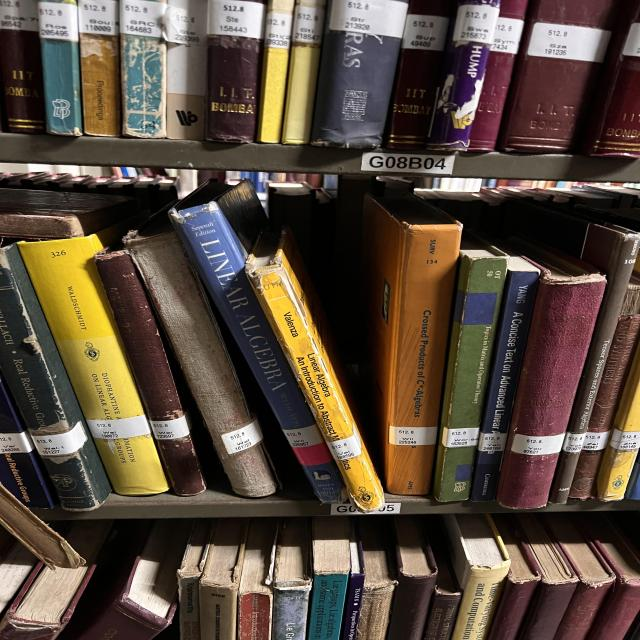Book: (175, 210, 347, 502), (123, 230, 277, 498), (18, 225, 168, 495), (245, 229, 385, 514), (0, 244, 112, 511), (363, 195, 462, 495), (95, 249, 205, 496), (497, 265, 605, 509), (548, 224, 640, 504), (433, 242, 508, 501), (498, 0, 615, 152), (470, 256, 540, 501), (568, 285, 640, 500), (310, 0, 408, 149), (73, 519, 193, 640), (0, 520, 113, 640), (427, 0, 500, 151), (385, 0, 453, 150), (542, 514, 615, 640), (582, 0, 640, 158), (468, 0, 528, 151), (442, 514, 510, 640), (205, 0, 265, 142), (577, 512, 640, 640), (517, 514, 578, 640), (0, 484, 87, 571), (0, 380, 55, 509), (597, 345, 640, 501), (487, 516, 540, 640), (120, 0, 167, 139), (282, 0, 327, 145), (38, 0, 82, 136), (165, 0, 207, 140), (200, 519, 248, 640), (78, 0, 120, 136), (257, 0, 295, 144), (308, 516, 350, 640), (237, 518, 278, 640), (272, 518, 312, 640), (357, 518, 397, 640), (177, 519, 212, 640), (387, 562, 437, 640), (423, 551, 462, 640), (0, 542, 38, 612)
Label: (527, 22, 612, 62), (328, 0, 408, 38), (207, 0, 265, 39), (32, 421, 87, 456), (165, 0, 207, 45), (452, 5, 500, 44), (120, 0, 167, 38), (402, 14, 450, 51), (38, 1, 78, 41), (87, 415, 150, 439), (78, 0, 118, 35), (222, 420, 263, 454), (292, 5, 325, 44), (510, 432, 565, 455), (490, 18, 523, 54), (265, 12, 293, 49), (327, 431, 362, 460), (388, 426, 438, 446), (150, 416, 190, 440), (283, 425, 323, 448), (442, 428, 480, 448), (0, 431, 33, 454), (610, 429, 640, 450), (478, 432, 507, 452), (582, 431, 610, 451), (562, 432, 587, 452)
